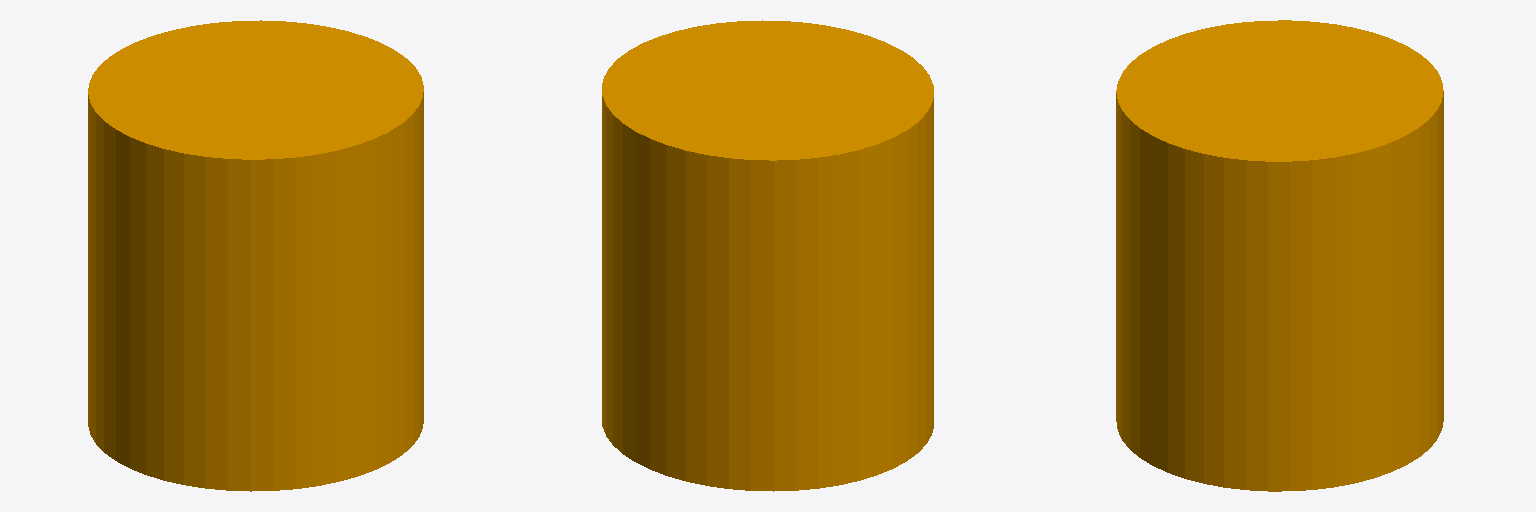
URDF robot description (object):
<?xml version="1.0"?>
<robot name="object">
  <link name="object">
    <visual>
      <origin xyz="0 0 0"/>
      <geometry>
        <mesh filename="meshes/generated/col_113.obj" scale="0.03 0.03 0.03"/>
      </geometry>
    </visual>
    <collision>
      <origin xyz="0 0 0"/>
      <geometry>
        <mesh filename="meshes/generated/col_113.obj" scale="0.03 0.03 0.03"/>
      </geometry>
    </collision>
    <inertial>
      <density value="1000.0"/>
    </inertial>
  </link>
</robot>

--- What the picture shows (computed from the rendered views, not written in the file) ---
The picture shows the robot from 3 angles, left to right: view 1: azimuth 30°, elevation 25°; view 2: azimuth 150°, elevation 25°; view 3: azimuth 270°, elevation 25°; orthographic projection.
Model object with 1 links and 0 joints (none), rooted at object, posed every joint at zero.
Links seen in each view (by area): view 1: object; view 2: object; view 3: object.
Link boxes in pixels (x1,y1,x2,y2): object: (88,20,423,491); object: (602,20,933,491); object: (1116,20,1443,491).
Size in the robot's own frame: 0.0551 by 0.054 by 0.06 metres.
1 mesh visuals loaded from 1 distinct referenced files (1 OBJ).
